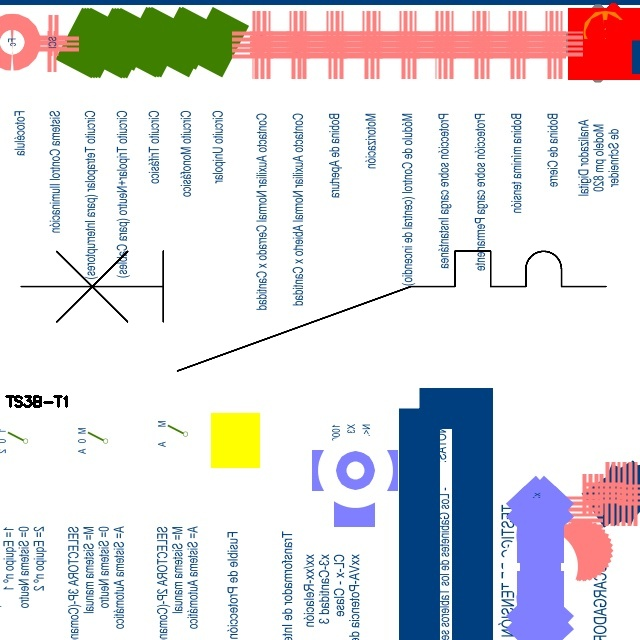interruptor_termomagnetico: (6, 236, 621, 386)
